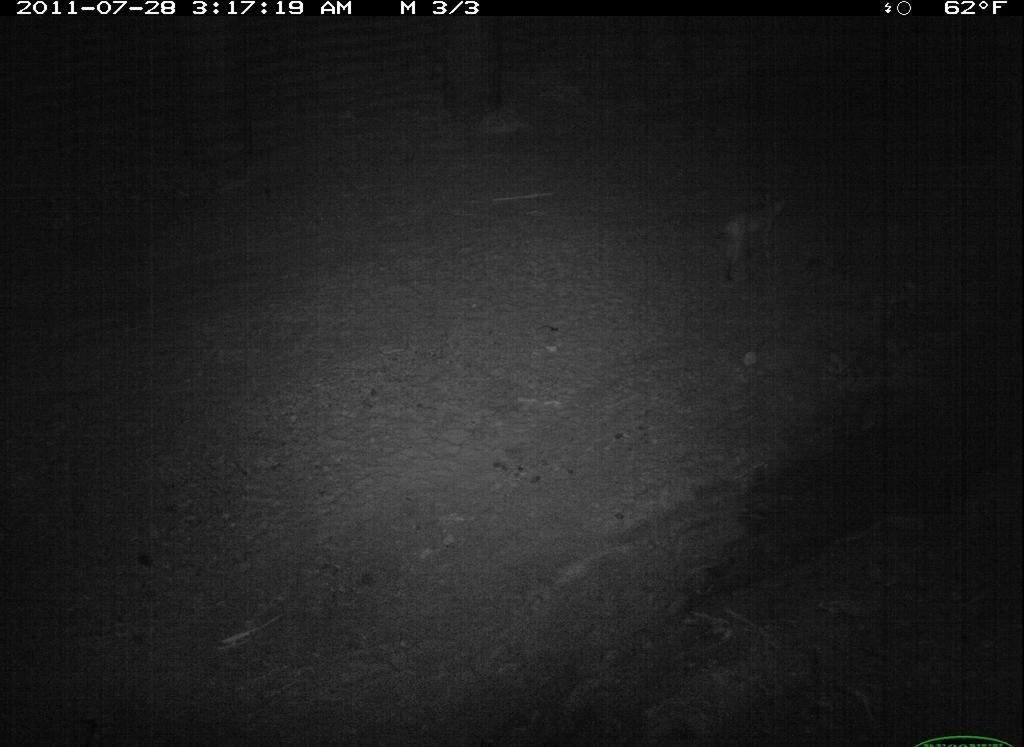bobcat: (703, 177, 798, 309)
